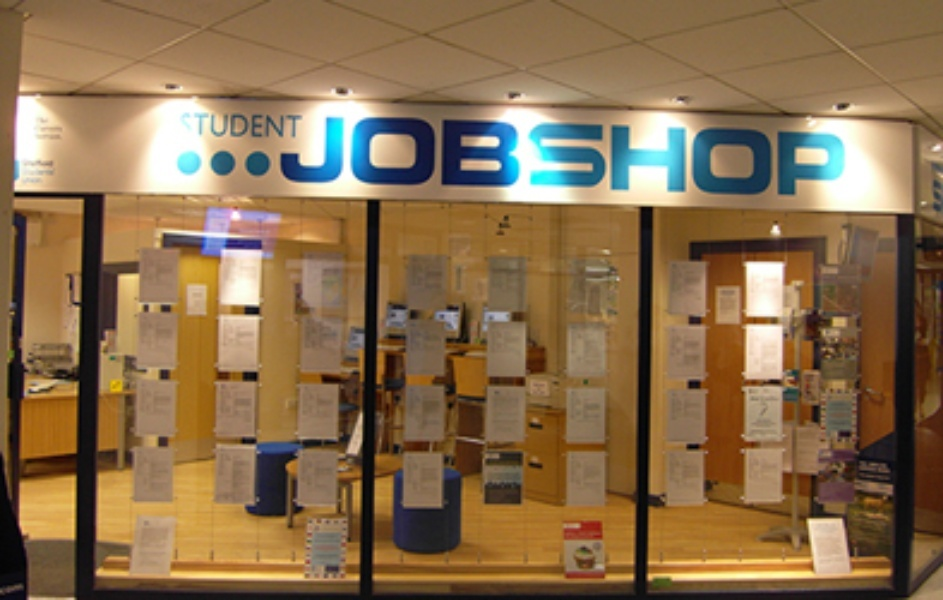text: (289, 113, 304, 200), (305, 113, 320, 200), (321, 113, 336, 200), (337, 113, 352, 200), (353, 113, 368, 200), (369, 113, 384, 200), (385, 113, 400, 200), (401, 113, 416, 200), (417, 113, 432, 200), (433, 113, 448, 200), (449, 113, 464, 200), (465, 113, 480, 200), (481, 113, 496, 200), (497, 113, 512, 200), (513, 113, 528, 200), (529, 113, 544, 200), (545, 113, 560, 200), (561, 113, 576, 200), (577, 113, 592, 200), (593, 113, 608, 200), (609, 113, 624, 200), (625, 113, 640, 200), (641, 113, 656, 200), (657, 113, 672, 200), (673, 113, 688, 200), (689, 113, 704, 200), (705, 113, 720, 200), (721, 113, 736, 200), (737, 113, 752, 200), (753, 113, 768, 200), (769, 113, 784, 200), (785, 113, 800, 200), (801, 113, 816, 200), (817, 113, 832, 200), (833, 113, 843, 200), (279, 113, 288, 200), (193, 111, 208, 140), (209, 111, 224, 140), (225, 111, 240, 140), (241, 111, 256, 140), (257, 111, 272, 140), (273, 111, 288, 140), (289, 111, 303, 140), (33, 164, 48, 188), (180, 111, 192, 140), (20, 164, 32, 188), (33, 123, 48, 140), (49, 123, 63, 140), (49, 164, 58, 188), (33, 113, 48, 123), (17, 157, 32, 166), (33, 157, 48, 166), (49, 157, 56, 166), (29, 123, 32, 140), (29, 113, 32, 123)
